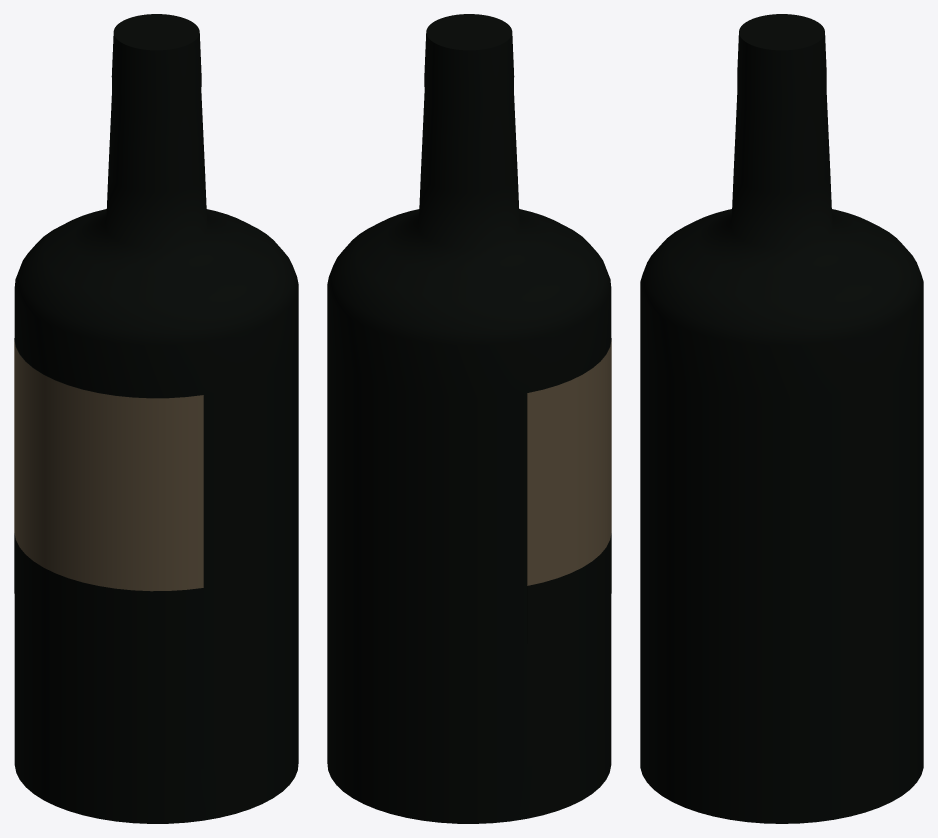
File: Bouteille_Vide.fbx
3 views of the same model, side by side, from view 1: azimuth 30°, elevation 25°; view 2: azimuth 150°, elevation 25°; view 3: azimuth 270°, elevation 25° (orthographic).
Visible parts, largest first — view 1: pCylinder1; view 2: pCylinder1; view 3: pCylinder1.
Part boxes in pixels (x1=…): pCylinder1: x1=14, y1=14, x2=298, y2=823; pCylinder1: x1=327, y1=14, x2=611, y2=823; pCylinder1: x1=640, y1=14, x2=923, y2=823.
Size of the model in its own units: 5.51 by 15.64 by 5.49.
